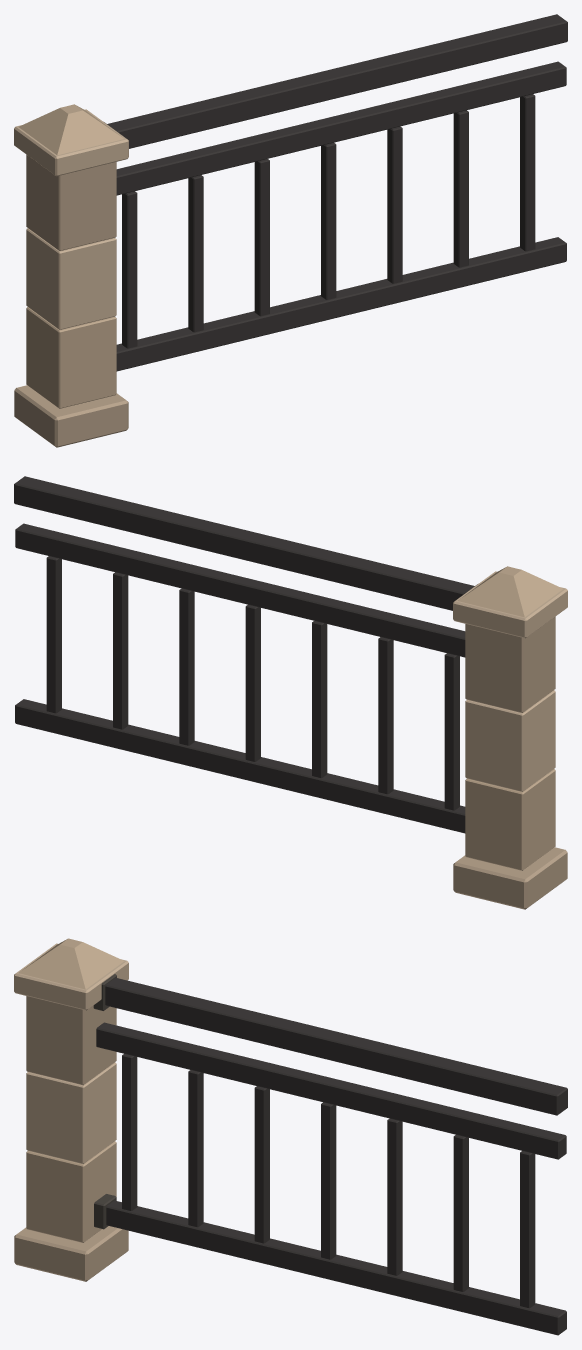
Rendered from railing.glb.
3 renders of one model, top to bottom at view 1: azimuth 30°, elevation 25°; view 2: azimuth 150°, elevation 25°; view 3: azimuth 330°, elevation 25°, orthographic.
Visible parts, largest first — view 1: body; view 2: body; view 3: body.
Part boxes in pixels (box(x1,y1,x2,y2)): body: box(14, 14, 567, 447); body: box(14, 476, 567, 909); body: box(14, 938, 567, 1335).
Size of the model in its own units: 2 by 1.14 by 0.28.
